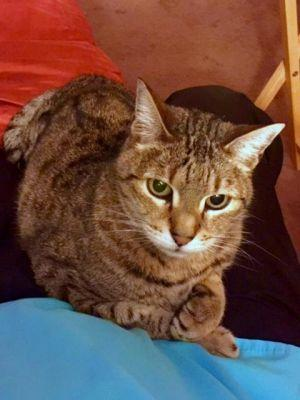bengal: (108, 69, 293, 273)
